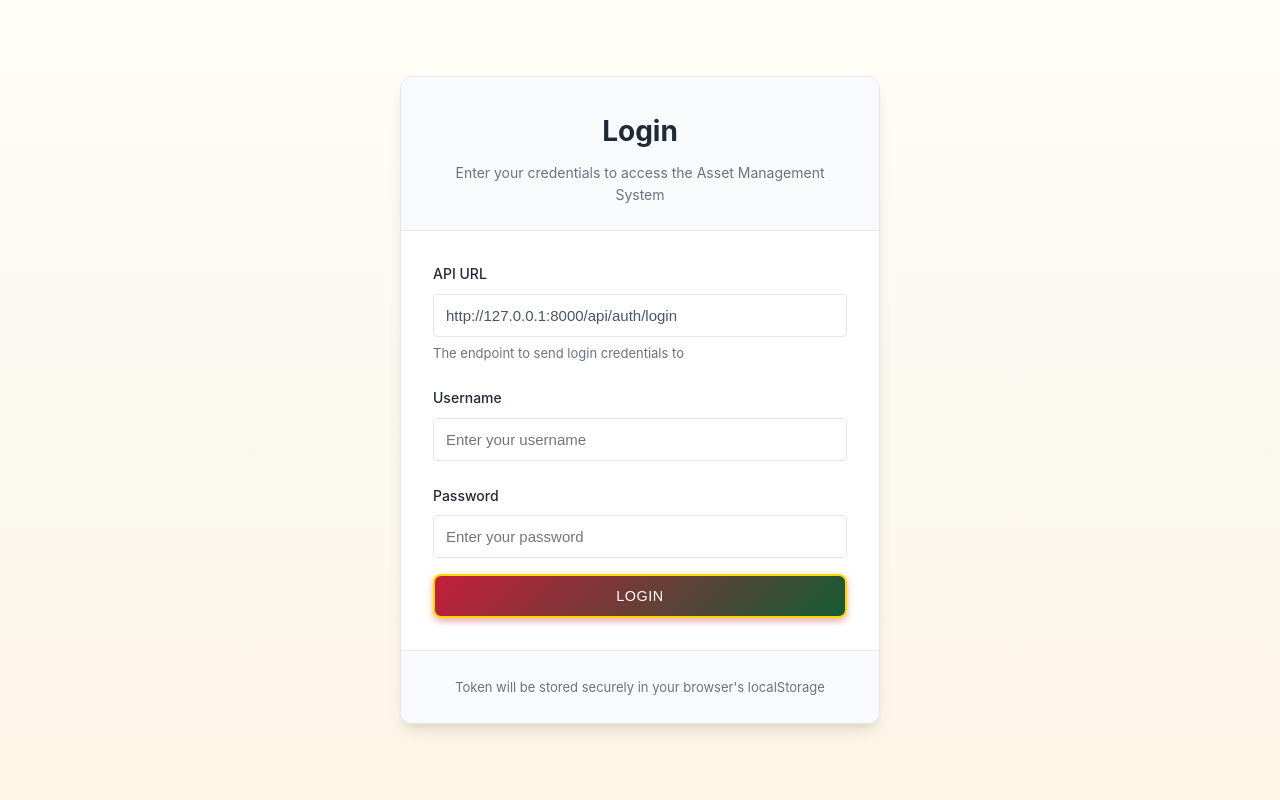
LoginView.vue › shows error when submitting without username
In the password field labelled "Password": (640, 537) [433, 515, 847, 558], type "password123"
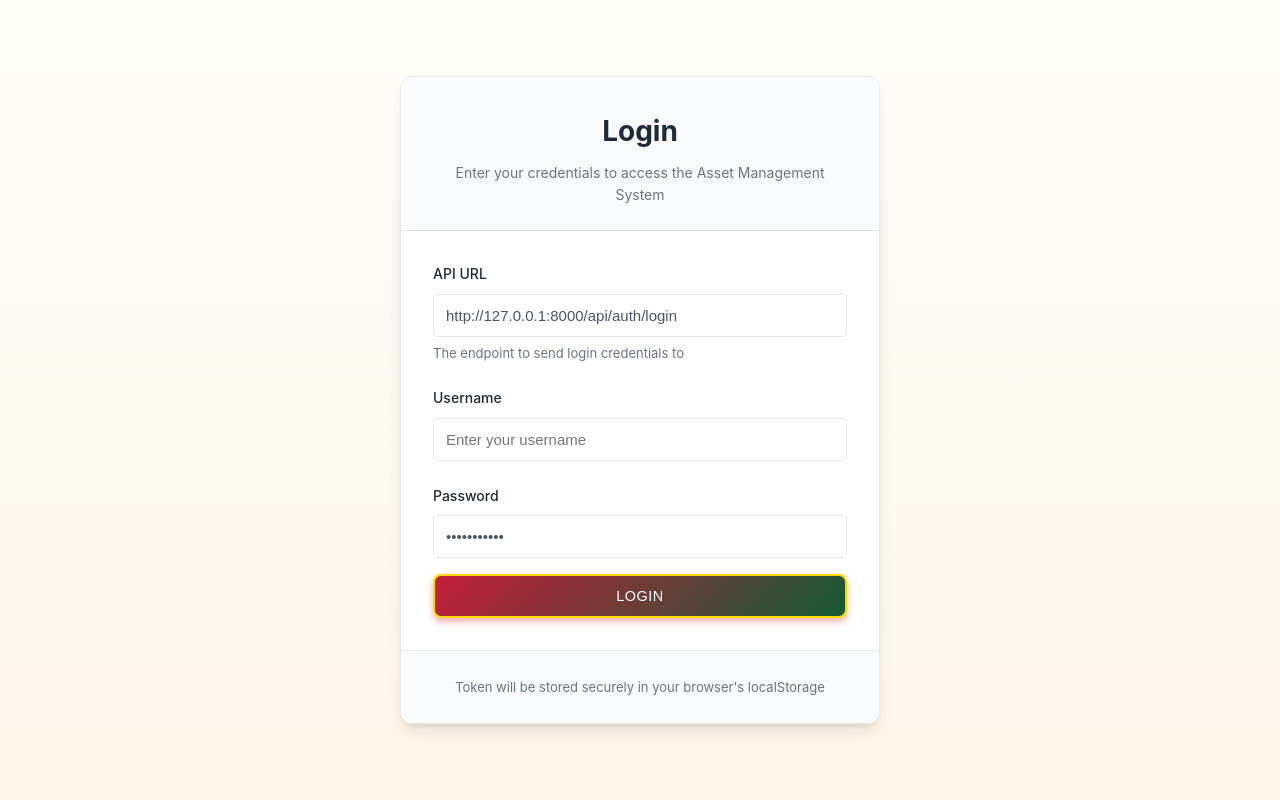
Submit the form with class "login-form", box [401, 231, 879, 650]
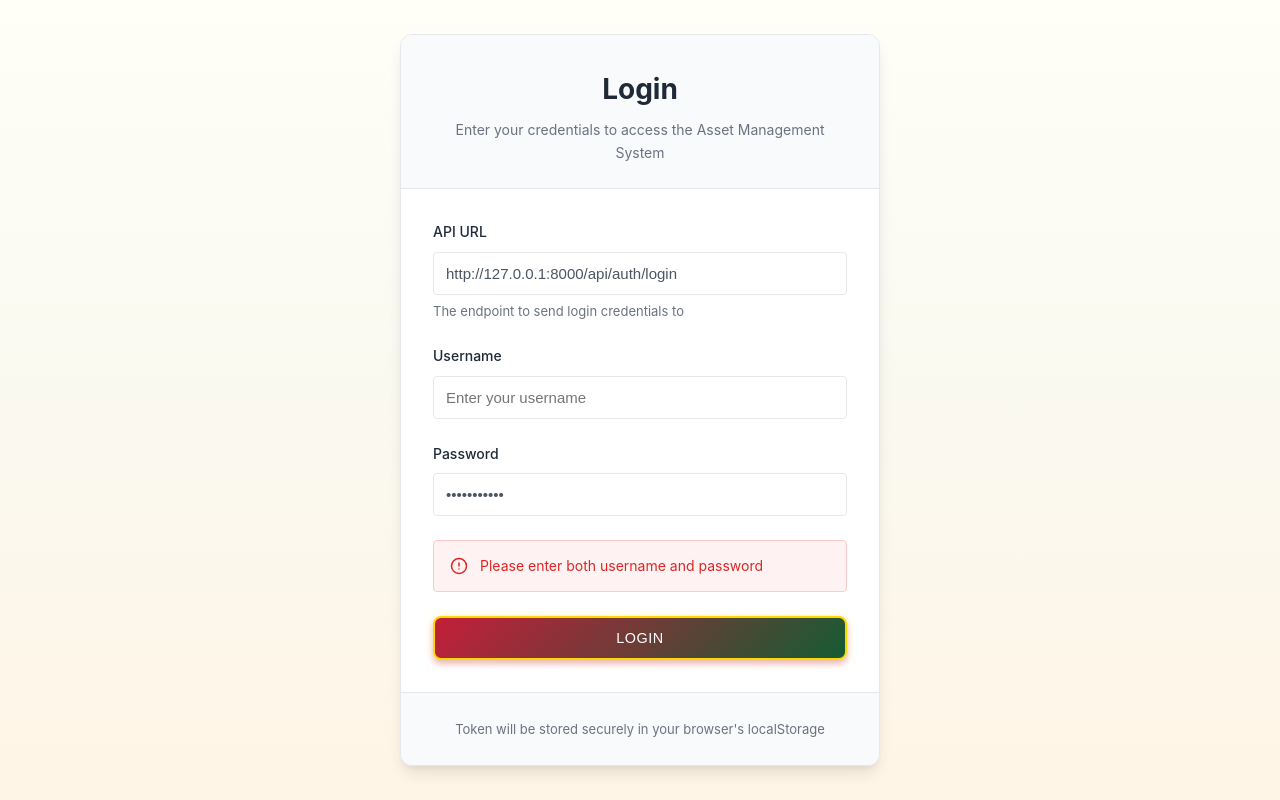
Expected: the text "Please enter both username and password" is shown, [433, 540, 847, 592]
